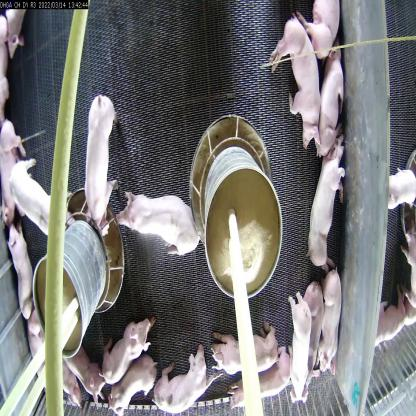Pig: (264, 12, 319, 152), (117, 192, 203, 256), (306, 150, 348, 271), (103, 304, 158, 394), (84, 89, 118, 227), (230, 353, 302, 416), (211, 324, 278, 390), (156, 350, 219, 415), (277, 286, 311, 406), (8, 157, 62, 231), (102, 356, 160, 416), (316, 44, 346, 158), (62, 345, 112, 404), (2, 218, 35, 307), (0, 111, 25, 227), (298, 278, 323, 386), (322, 264, 344, 378), (25, 313, 46, 379)
